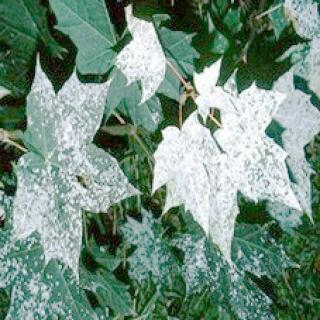grey mildew: (160, 72, 310, 216), (28, 69, 124, 237), (117, 17, 159, 95)
